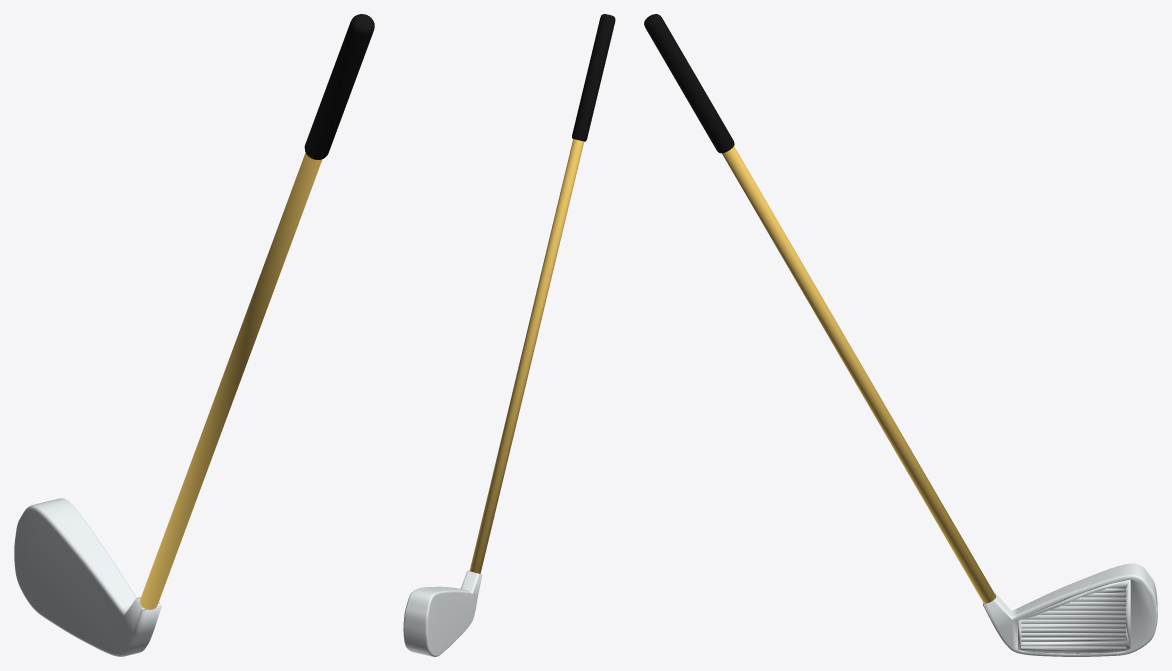
Rendered from club.fbx.
3 views of the same model, side by side, from view 1: azimuth 30°, elevation 25°; view 2: azimuth 150°, elevation 25°; view 3: azimuth 270°, elevation 25° (orthographic). The views are drawn at different scales.
Visible parts, largest first — view 1: Line001, Cylinder001, Cylinder002; view 2: Cylinder001, Line001, Cylinder002; view 3: Cylinder001, Line002, Line001, Cylinder002.
Part boxes in pixels (x1=…): Line001: x1=14, y1=498, x2=161, y2=656; Cylinder001: x1=140, y1=153, x2=322, y2=609; Cylinder002: x1=304, y1=14, x2=374, y2=159; Cylinder001: x1=469, y1=139, x2=583, y2=573; Line001: x1=403, y1=570, x2=482, y2=656; Cylinder002: x1=572, y1=14, x2=615, y2=141; Cylinder001: x1=722, y1=146, x2=996, y2=603; Line002: x1=1018, y1=579, x2=1130, y2=653; Line001: x1=983, y1=563, x2=1157, y2=656; Cylinder002: x1=644, y1=14, x2=734, y2=153.
Bounding box in the file's own units: 11.24 × 215 × 157.
